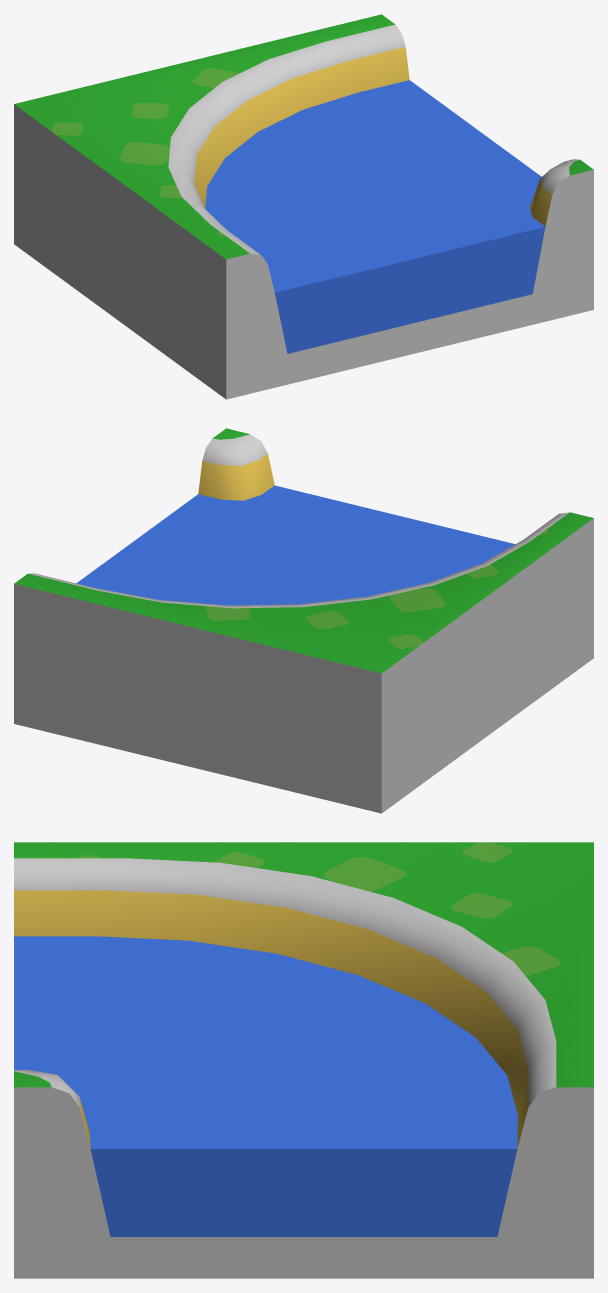
Rendered from RiverTile_3_2.fbx.
3 renders of one model, top to bottom at view 1: azimuth 30°, elevation 25°; view 2: azimuth 150°, elevation 25°; view 3: azimuth 270°, elevation 25°, orthographic. The views are drawn at different scales.
Visible parts, largest first — view 1: RiverTile_3_2; view 2: RiverTile_3_2; view 3: RiverTile_3_2.
Boxes of the visible parts, x1,y1,x2,y2 form: RiverTile_3_2: [14, 14, 593, 399]; RiverTile_3_2: [14, 428, 593, 813]; RiverTile_3_2: [14, 842, 593, 1278].
Size of the model in its own units: 4 by 1.46 by 4.
